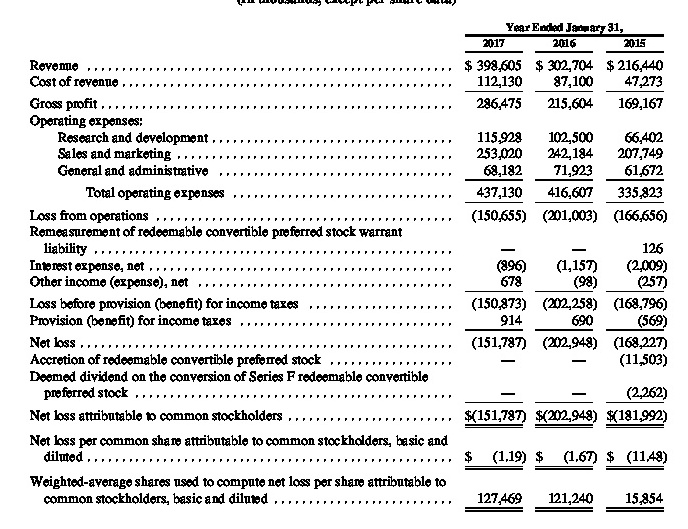table: (0, 0, 688, 529)
